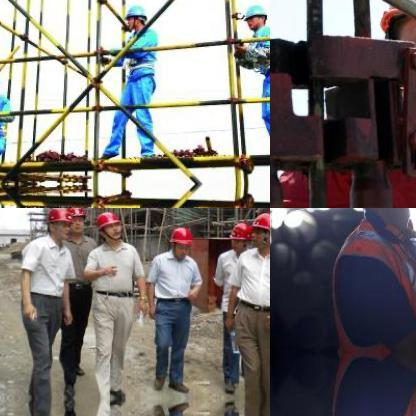Helmet: (92, 208, 125, 244), (44, 208, 75, 240), (122, 0, 149, 32), (228, 220, 252, 254), (240, 0, 269, 28), (249, 211, 269, 251), (168, 226, 194, 256), (66, 208, 85, 234)
